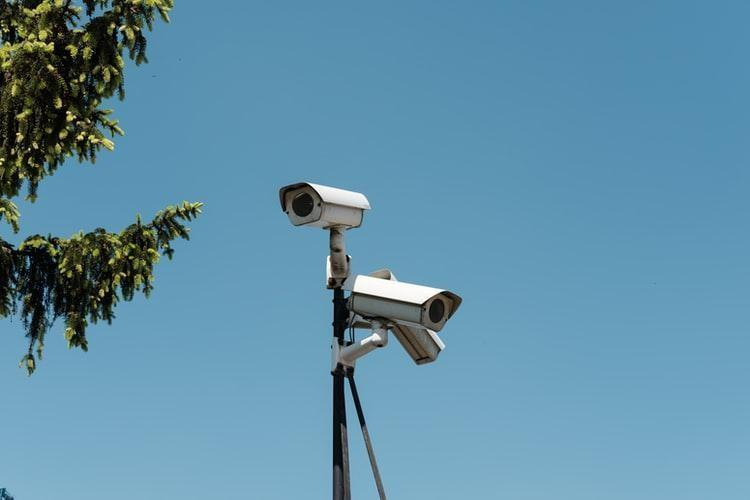------------------------------: (340, 268, 468, 336), (276, 173, 376, 234)
